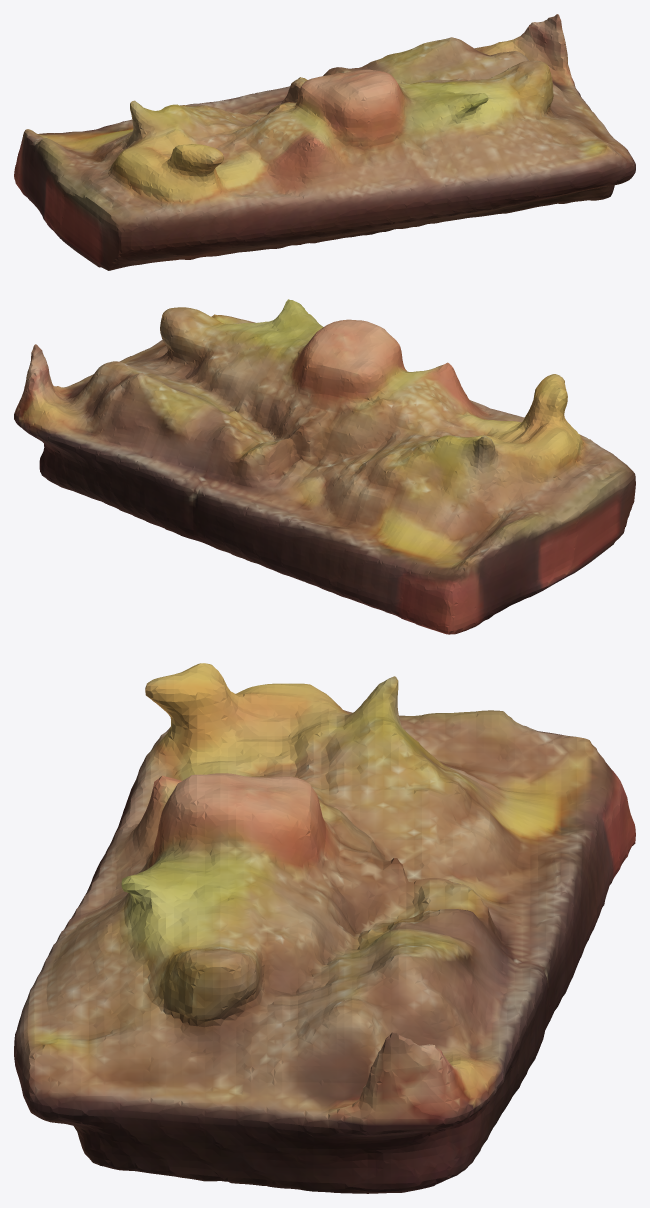
3 views of the same model, one above another, from view 1: azimuth 30°, elevation 25°; view 2: azimuth 150°, elevation 25°; view 3: azimuth 270°, elevation 25° (orthographic). The views are drawn at different scales.
Parts seen in each view (by area): view 1: world; view 2: world; view 3: world.
Part boxes in pixels (x1=…): world: x1=14, y1=14, x2=635, y2=270; world: x1=14, y1=299, x2=635, y2=634; world: x1=14, y1=663, x2=635, y2=1193.
Size of the model in its own units: 1.99 by 0.5548 by 1.32.
